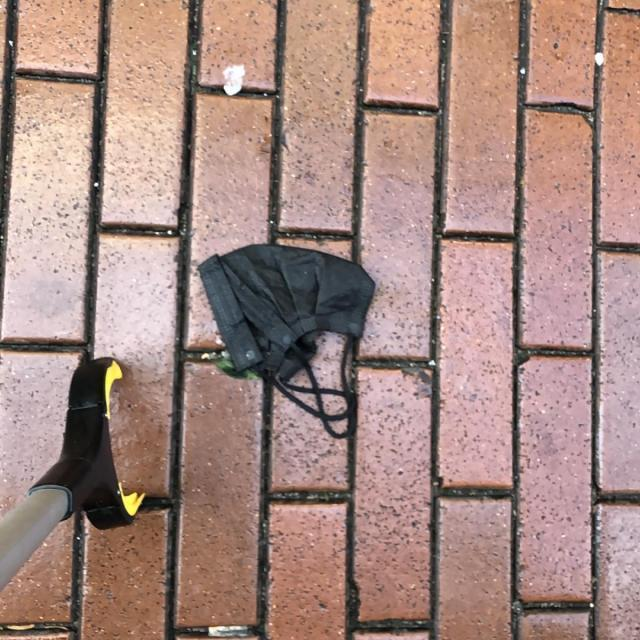Mask: (193, 240, 377, 441)
